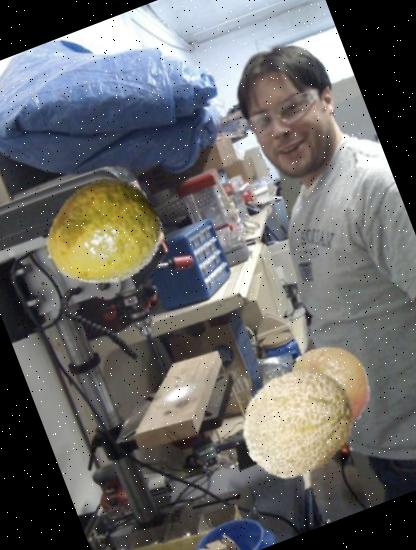Cantaloupe: (222, 346, 374, 498)
Guava: (26, 160, 178, 310)
Mandarine: (272, 332, 384, 444)
